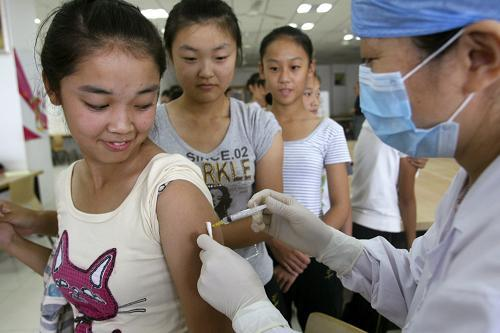NONE: (66, 78, 161, 162), (175, 41, 240, 100), (266, 56, 306, 103), (297, 88, 323, 118)
OK: (357, 37, 470, 150)
